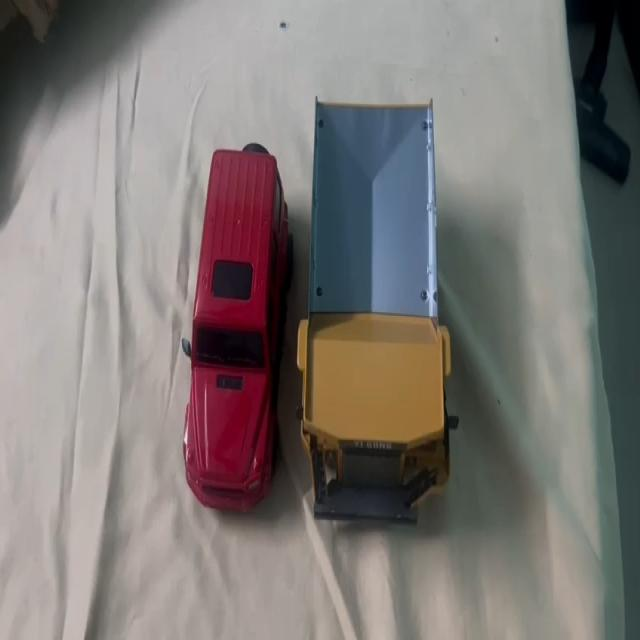dump_truck: (302, 90, 453, 524)
light_vehicle: (187, 141, 282, 504)
